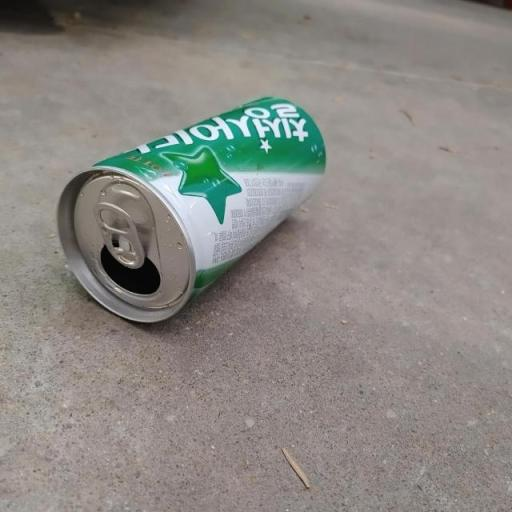metal: (41, 72, 375, 381)
